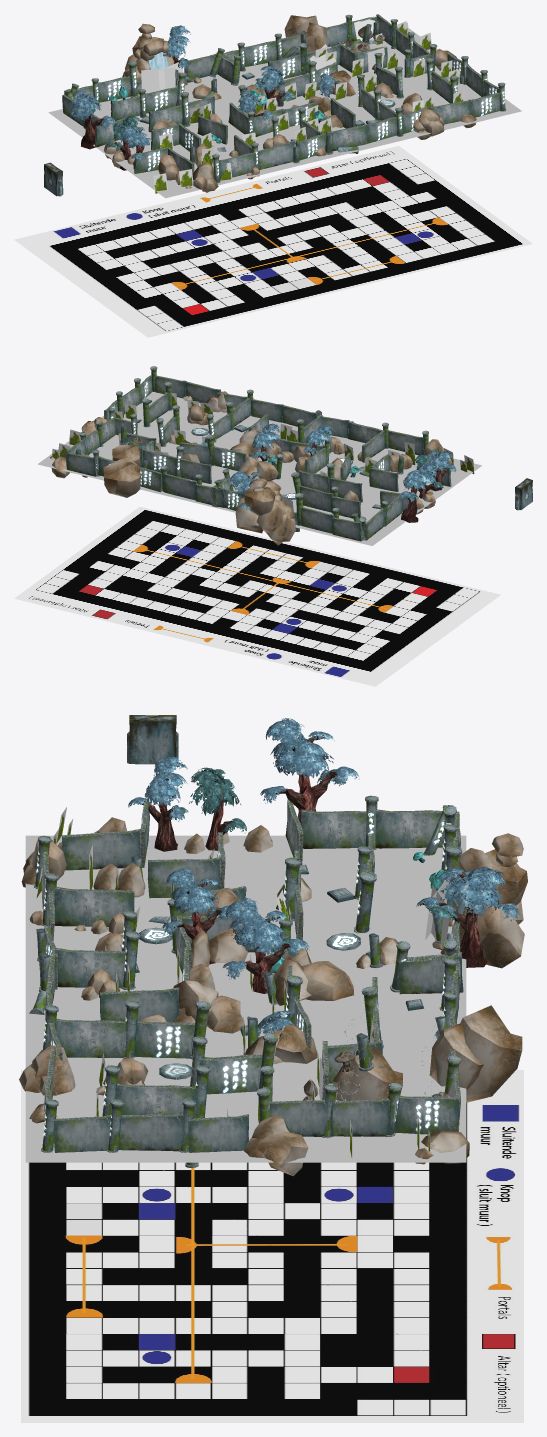
Rendered from Level V2.fbx.
3 views of the same model, one above another, from view 1: azimuth 30°, elevation 25°; view 2: azimuth 150°, elevation 25°; view 3: azimuth 270°, elevation 25° (orthographic). The views are drawn at different scales.
Parts seen in each view (by area): view 1: pPlane39, pPlane16, polySurface375, polySurface452, polySurface228, polySurface292, polySurface345, polySurface401, polySurface418, waterfall_impact_2, polySurface343, polySurface321 (+23 smaller); view 2: pPlane39, pPlane16, polySurface431, polySurface228, polySurface375, polySurface452, polySurface408, polySurface418, polySurface286, polySurface390, polySurface292, polySurface438 (+26 smaller); view 3: pPlane39, pPlane16, polySurface228, polySurface401, polySurface292, polySurface431, polySurface323, polySurface326, polySurface337, polySurface531, polySurface352, polySurface679 (+30 smaller).
Boxes of the visible parts, x1=… form: pPlane39: x1=14, y1=146, x2=532, y2=337; pPlane16: x1=48, y1=28, x2=521, y2=198; polySurface375: x1=326, y1=117, x2=397, y2=151; polySurface452: x1=429, y1=93, x2=500, y2=124; polySurface228: x1=70, y1=90, x2=115, y2=149; polySurface292: x1=255, y1=66, x2=295, y2=109; polySurface345: x1=258, y1=140, x2=294, y2=169; polySurface401: x1=166, y1=25, x2=190, y2=68; polySurface418: x1=244, y1=40, x2=276, y2=66; waterfall_impact_2: x1=141, y1=67, x2=175, y2=93; polySurface343: x1=145, y1=87, x2=178, y2=113; polySurface321: x1=219, y1=152, x2=255, y2=179; pPlane39: x1=14, y1=506, x2=500, y2=686; pPlane16: x1=37, y1=391, x2=482, y2=545; polySurface431: x1=103, y1=459, x2=140, y2=497; polySurface228: x1=399, y1=463, x2=437, y2=522; polySurface375: x1=251, y1=399, x2=317, y2=426; polySurface452: x1=155, y1=375, x2=220, y2=402; polySurface408: x1=244, y1=486, x2=275, y2=516; polySurface418: x1=163, y1=473, x2=197, y2=500; polySurface286: x1=211, y1=446, x2=246, y2=471; polySurface390: x1=301, y1=507, x2=334, y2=533; polySurface292: x1=252, y1=423, x2=282, y2=461; polySurface438: x1=176, y1=458, x2=211, y2=483; pPlane39: x1=21, y1=1070, x2=523, y2=1422; pPlane16: x1=25, y1=835, x2=466, y2=1162; polySurface228: x1=260, y1=718, x2=359, y2=825; polySurface401: x1=416, y1=866, x2=520, y2=967; polySurface292: x1=222, y1=897, x2=309, y2=993; polySurface431: x1=460, y1=1005, x2=522, y2=1102; polySurface323: x1=54, y1=887, x2=134, y2=926; polySurface326: x1=62, y1=828, x2=141, y2=870; polySurface337: x1=128, y1=756, x2=188, y2=851; polySurface531: x1=55, y1=1019, x2=126, y2=1057; polySurface352: x1=301, y1=809, x2=366, y2=848; polySurface679: x1=162, y1=868, x2=230, y2=964.
Bounding box in the file's own units: 127 × 51.12 × 66.38.
